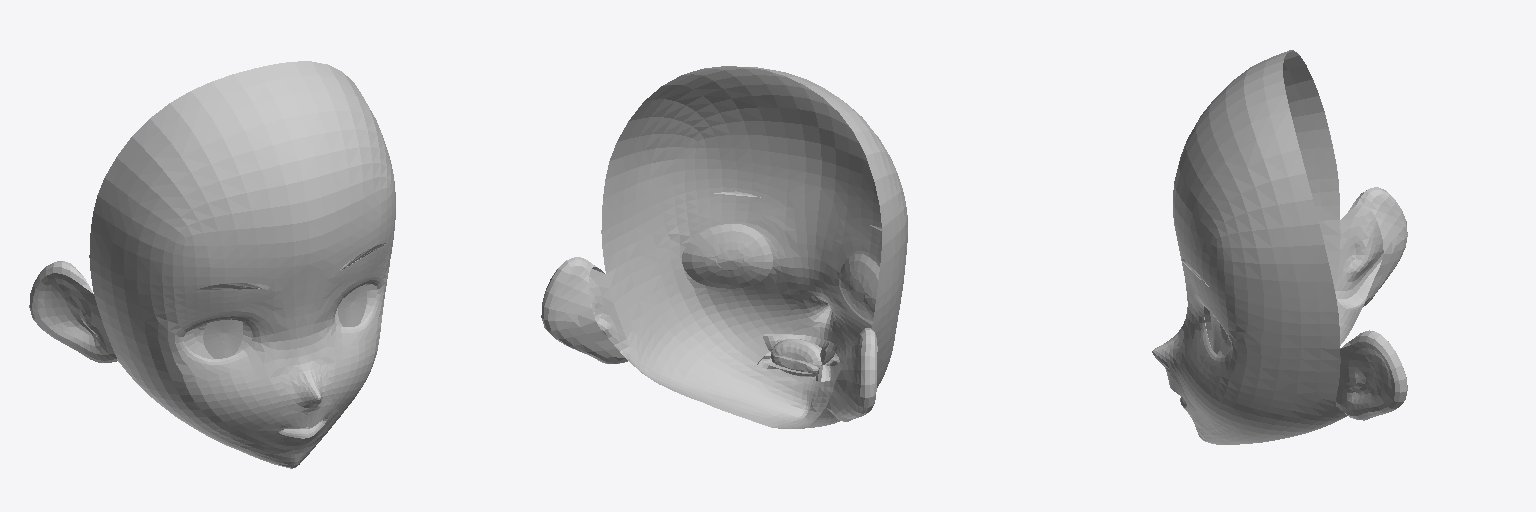
File: mouthLowerDownLeft.obj
The picture shows the model from 3 angles: view 1: azimuth 30°, elevation 25°; view 2: azimuth 150°, elevation 25°; view 3: azimuth 270°, elevation 25°; orthographic projection.
Visible parts, largest first — view 1: Face; view 2: Face; view 3: Face.
Boxes of the visible parts, x1=… form: Face: x1=29, y1=61, x2=395, y2=468; Face: x1=541, y1=66, x2=907, y2=428; Face: x1=1152, y1=50, x2=1407, y2=444.
Size of the model in its own units: 0.2176 by 0.2333 by 0.1449.